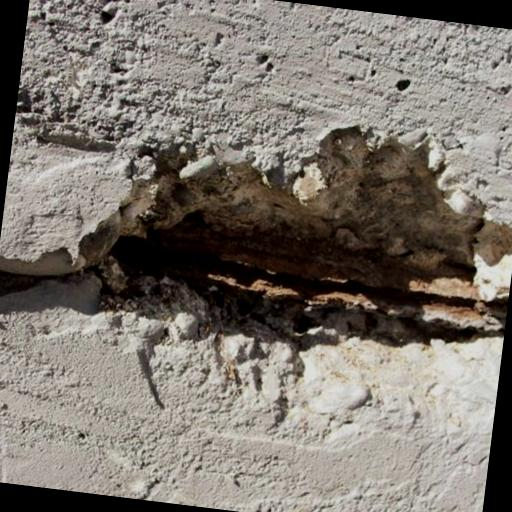spalling: (81, 115, 510, 348)
